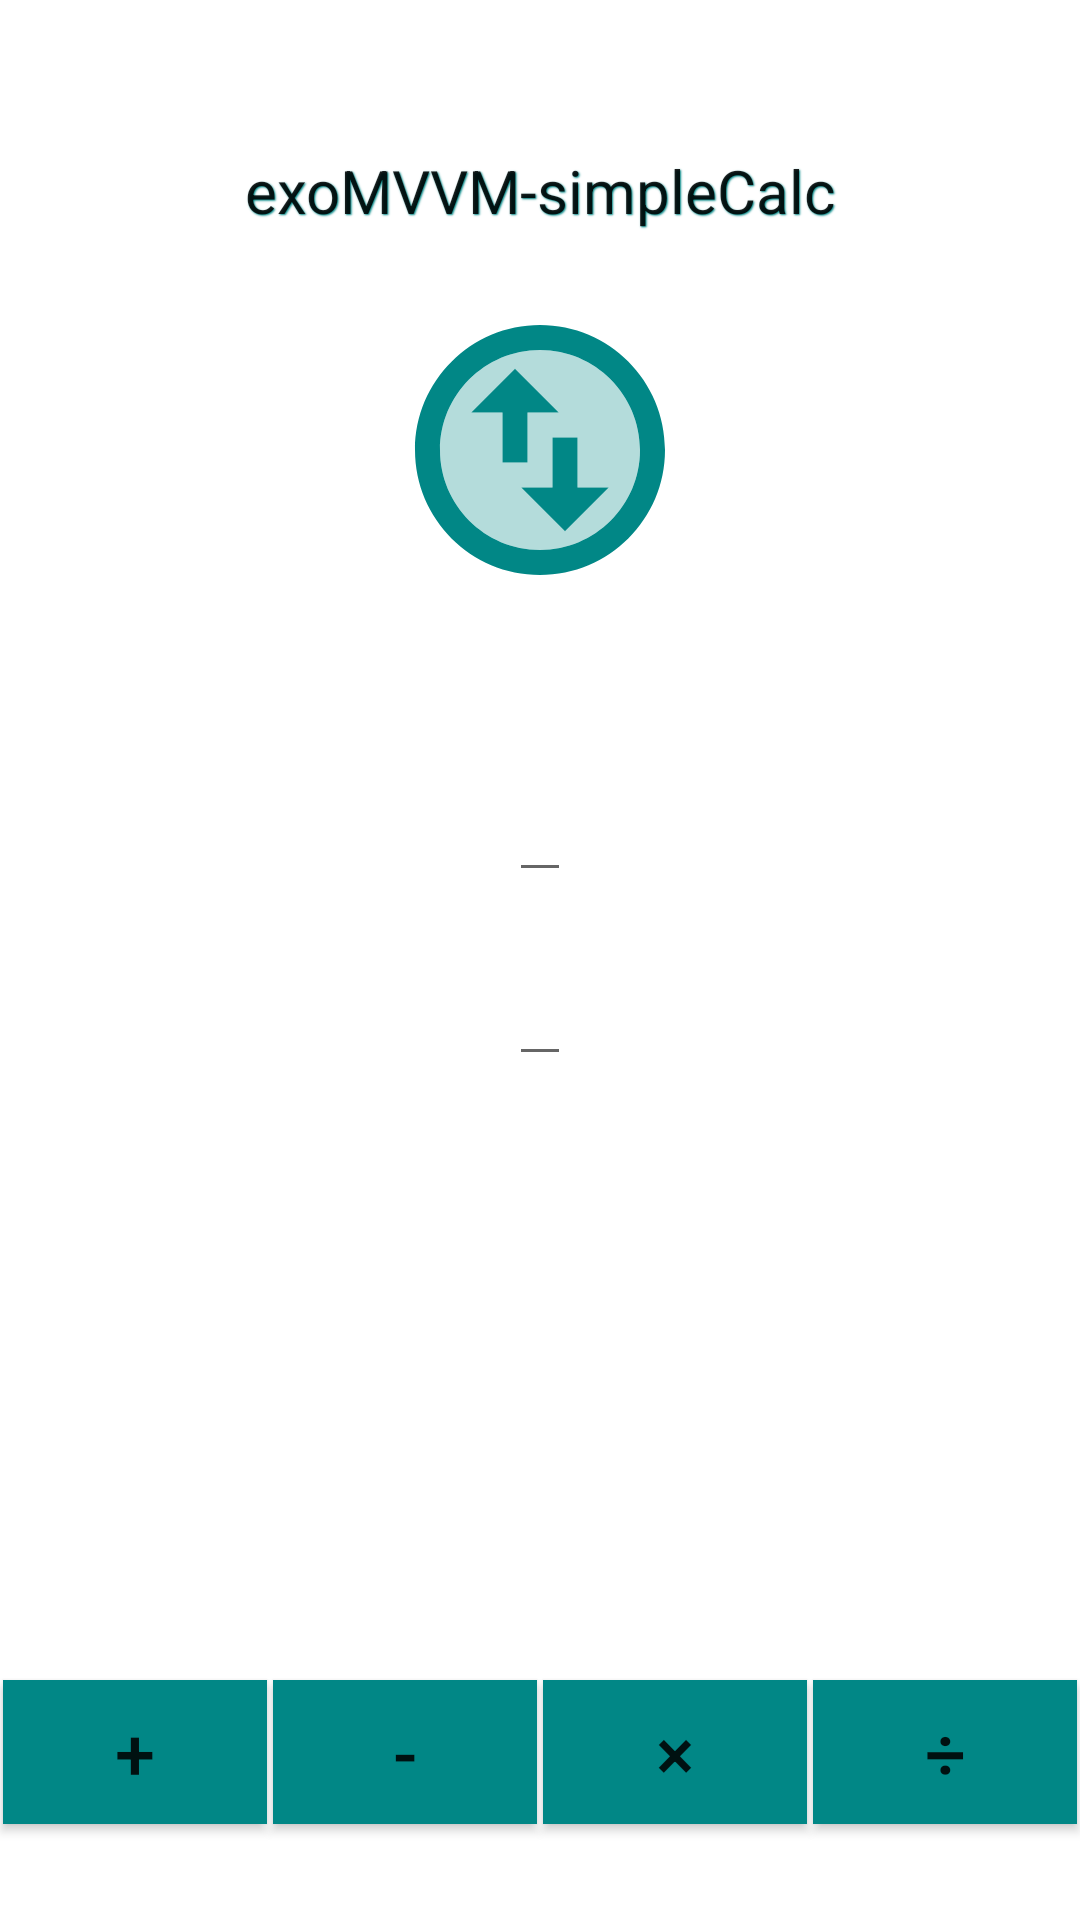

Screen size 1080px×1920px. Icon name, then its box in pixels as detection(x1, y1, x2, y2):
swap vertical circle: detection(415, 325, 665, 575)
